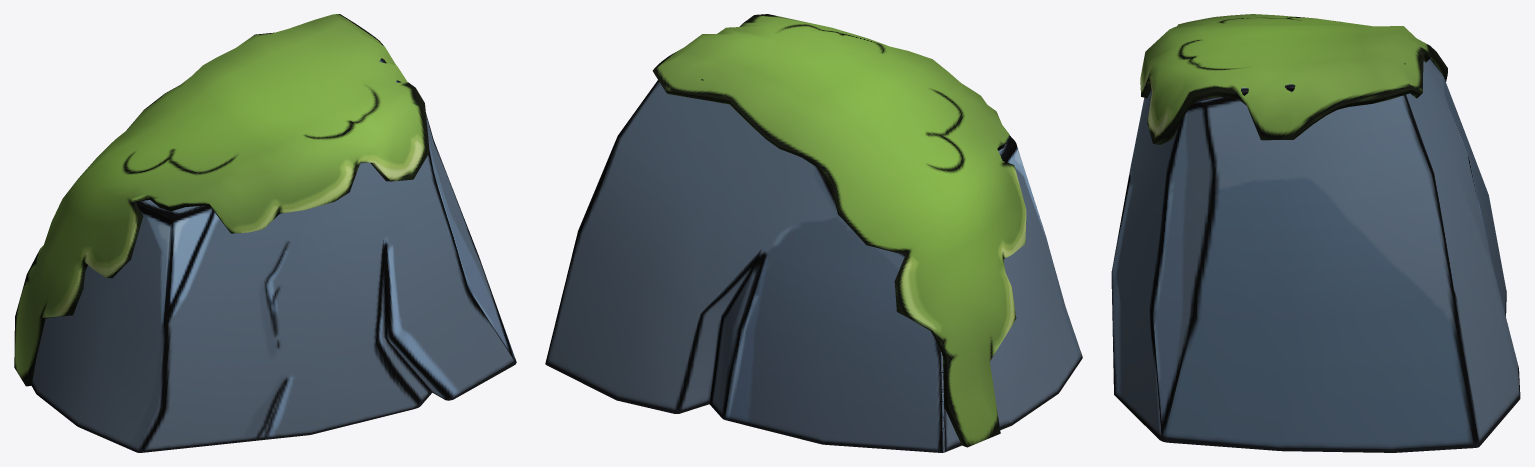
The model's file is Moonset_FBX_rock_moss_02.fbx.
3 renders of one model, left to right at view 1: azimuth 30°, elevation 25°; view 2: azimuth 150°, elevation 25°; view 3: azimuth 270°, elevation 25°, orthographic. The views are drawn at different scales.
Parts seen in each view (by area): view 1: rocks2_moss; view 2: rocks2_moss; view 3: rocks2_moss.
Part boxes in pixels (x1,y1,x2,y2): rocks2_moss: (14,14,516,452); rocks2_moss: (545,14,1082,452); rocks2_moss: (1111,14,1520,452).
Bounding box in the file's own units: 4.33 × 2.91 × 3.29.
